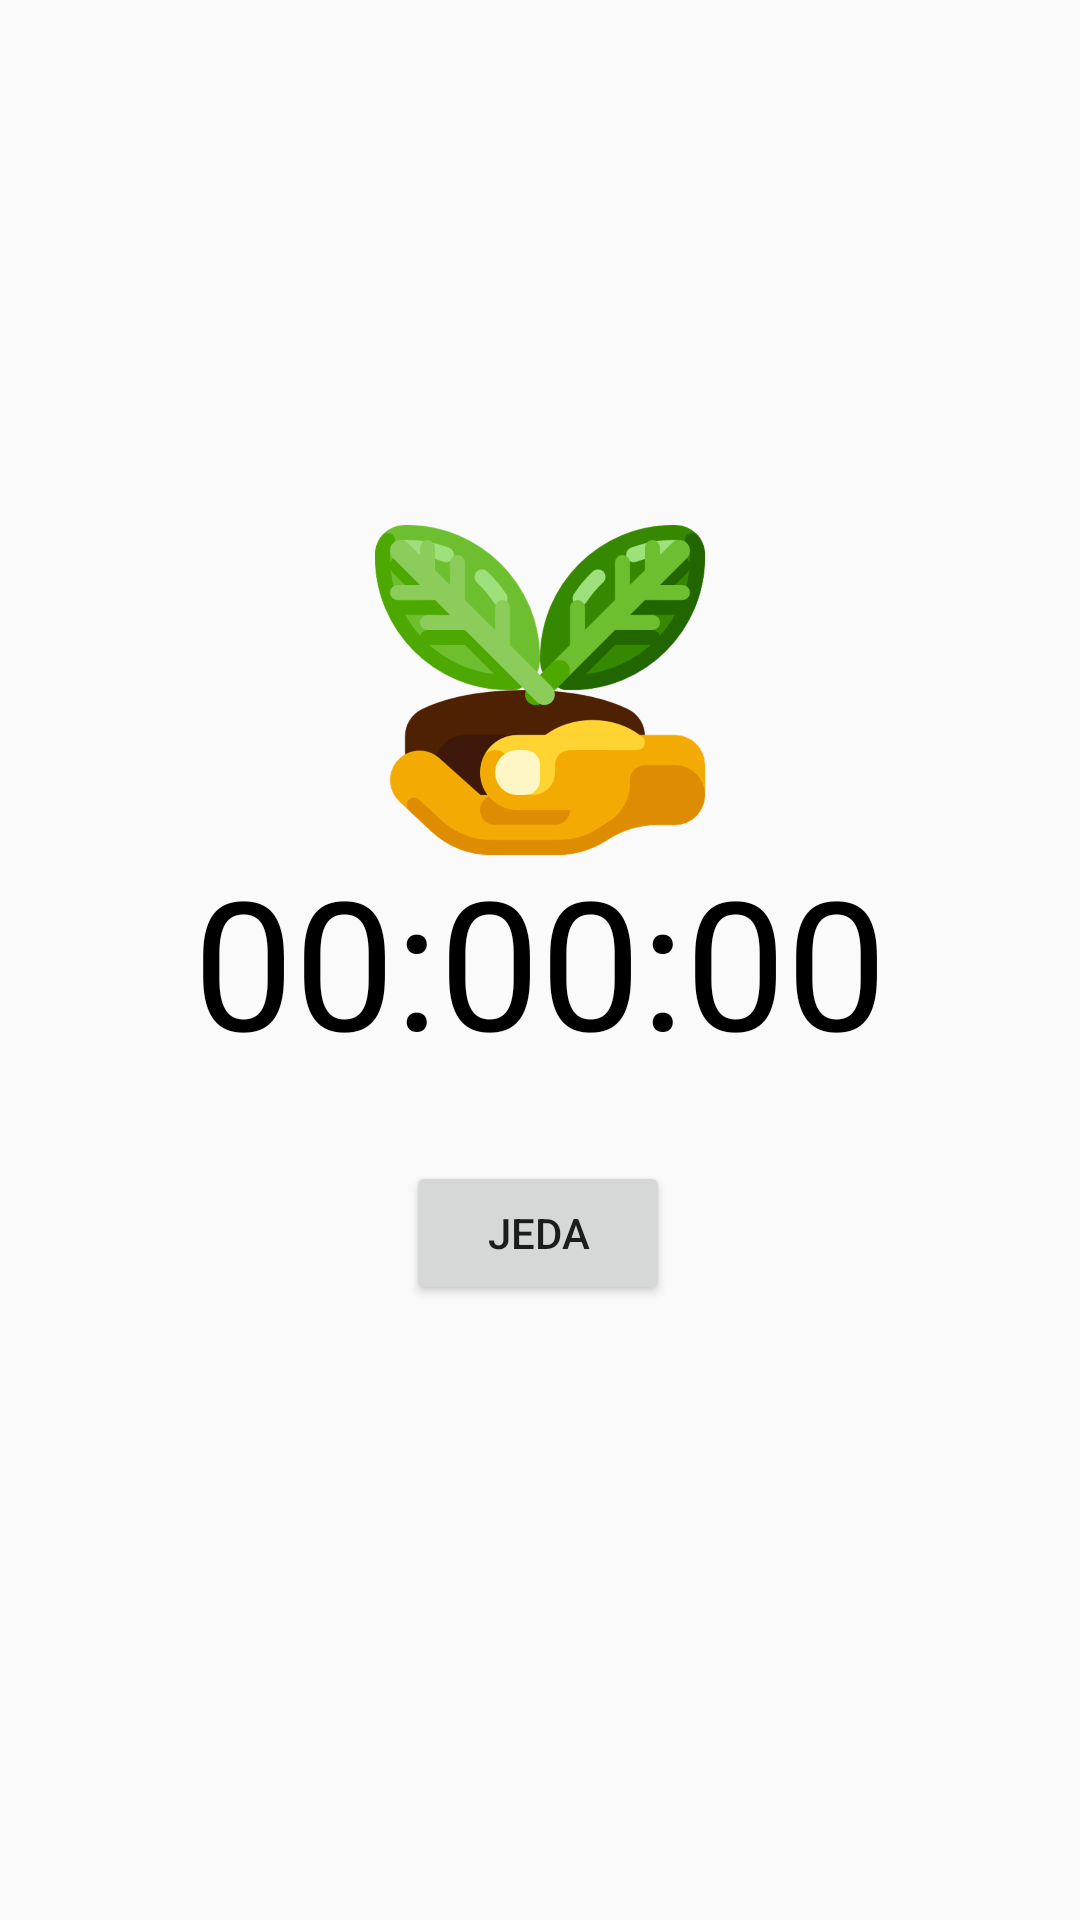

Locate icon controls on the screen. Image size 1080w x 1920h, boxes as bbox=[x1, y1, x2, y2].
plant: bbox=[375, 525, 705, 855]
